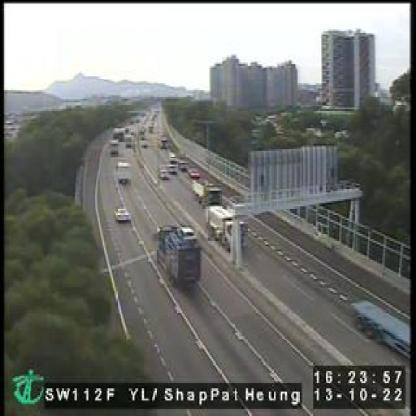Car: (114, 205, 130, 224), (160, 166, 171, 179)
Truck: (154, 224, 202, 284), (204, 206, 247, 252), (192, 176, 218, 204), (116, 160, 129, 186)
